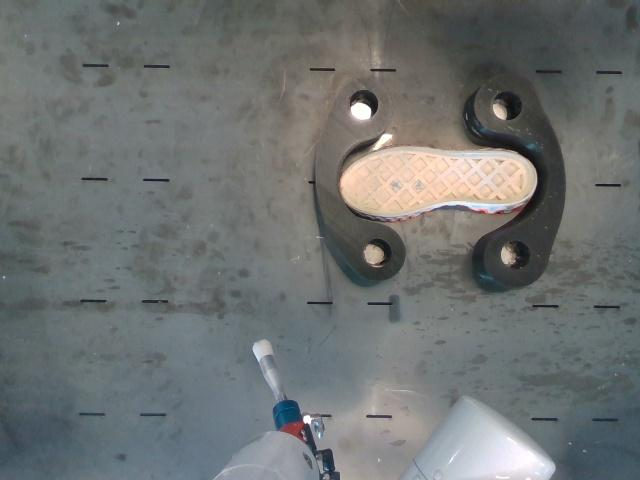shoes: (340, 147, 537, 216)
